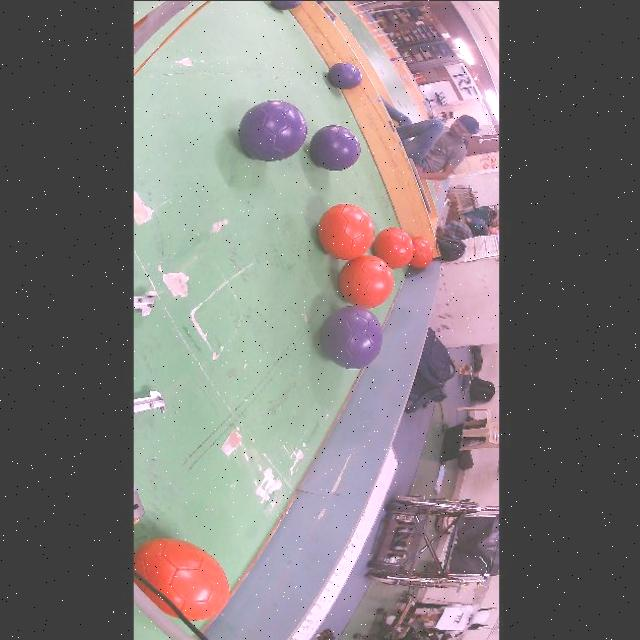P: (240, 100, 308, 161), (322, 304, 383, 368), (311, 124, 362, 170), (329, 62, 363, 88), (272, 0, 303, 8)
R: (134, 538, 231, 624), (318, 203, 376, 259), (340, 253, 395, 308), (374, 227, 415, 267), (410, 236, 434, 267)
